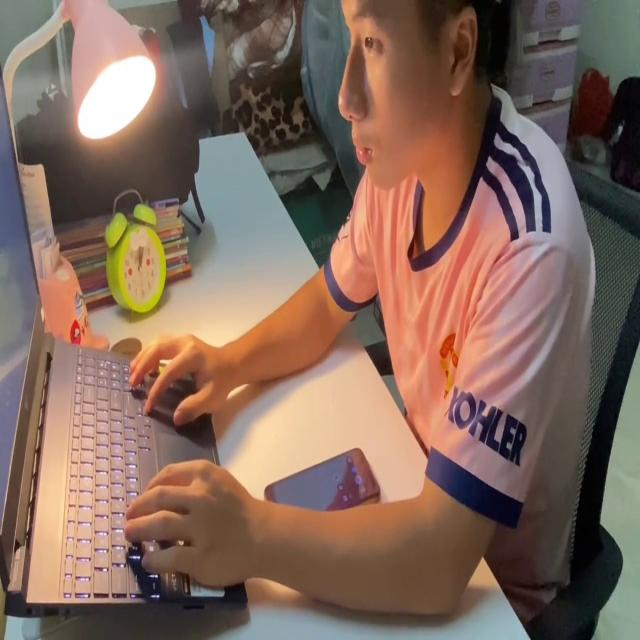laptop: (0, 62, 253, 622)
phone: (262, 439, 386, 518)
student: (123, 0, 612, 627)
